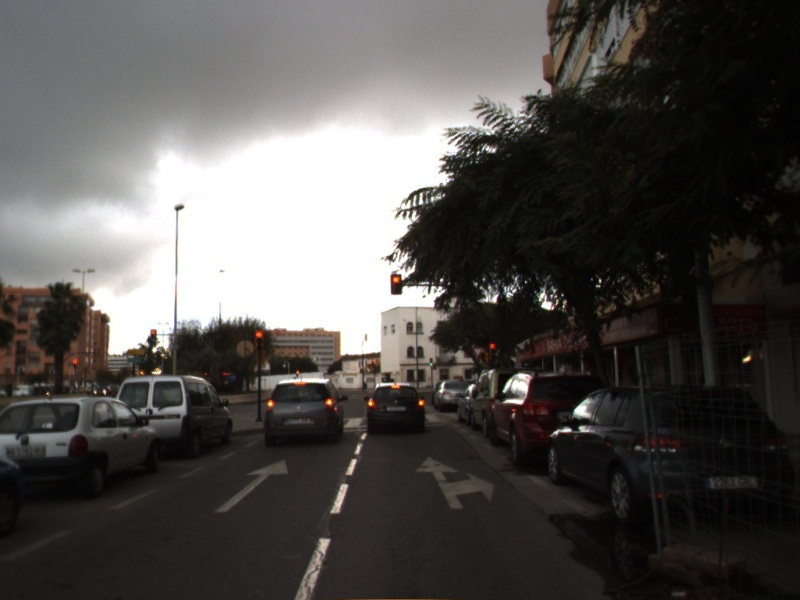STRAIGHT: (213, 457, 290, 514)
STRAIGHT_RIGHT: (414, 455, 496, 510)
